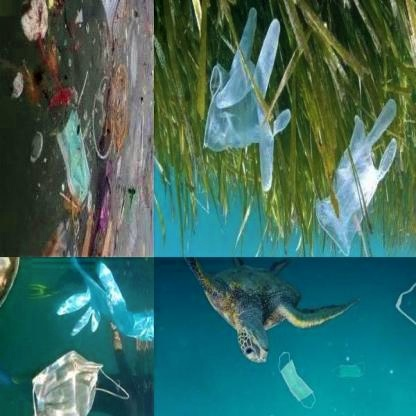Mask: (7, 350, 137, 415), (57, 102, 91, 208), (274, 347, 322, 415), (0, 257, 31, 330), (330, 346, 372, 391)
glove: (199, 2, 291, 193), (311, 92, 402, 256), (59, 257, 153, 342)
